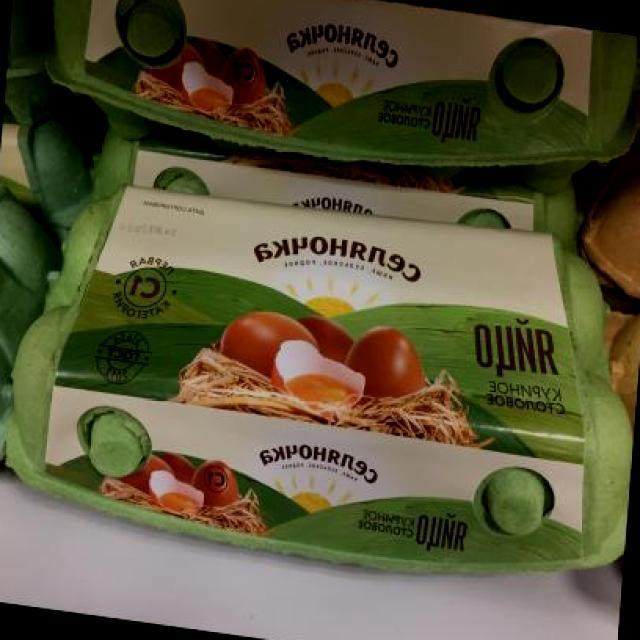Eggs: (0, 153, 640, 620), (35, 0, 640, 216)
